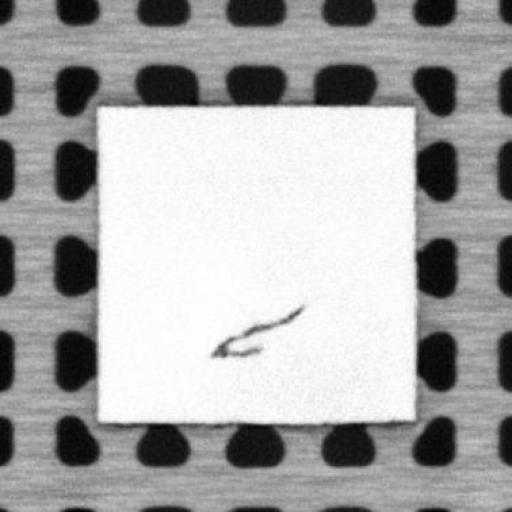DIE_INK: (208, 303, 304, 358)
